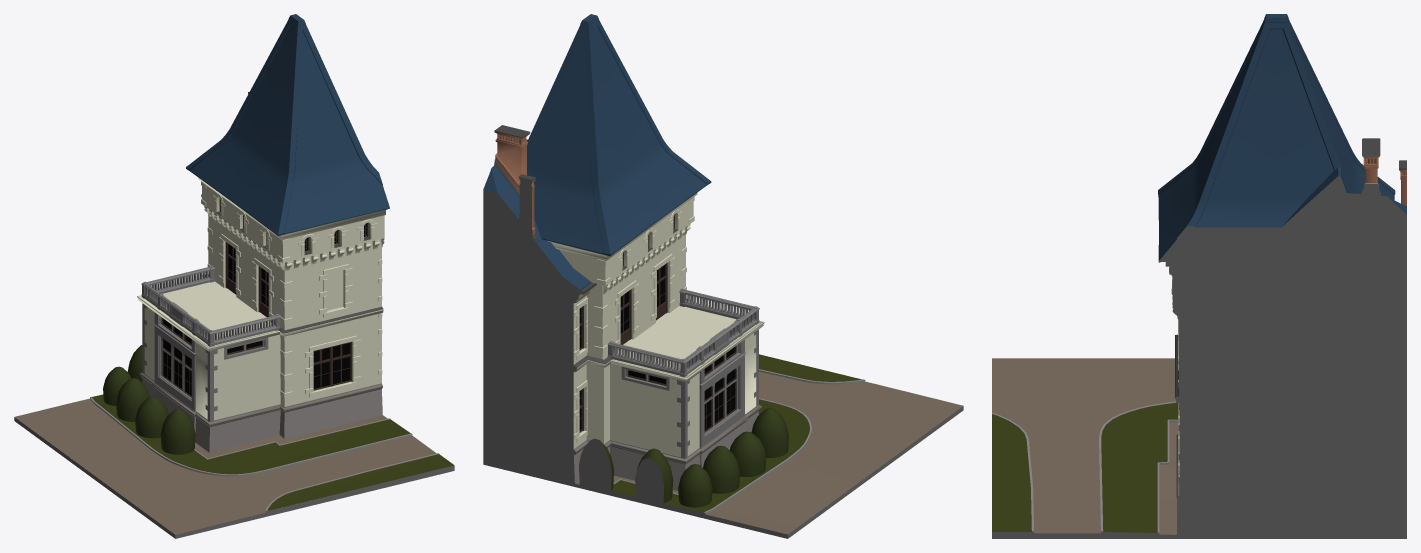
3 views of the same model, side by side, from view 1: azimuth 30°, elevation 25°; view 2: azimuth 150°, elevation 25°; view 3: azimuth 270°, elevation 25° (orthographic). The views are drawn at different scales.
Visible parts, largest first — view 1: Plane.002; view 2: Plane.002; view 3: Plane.002.
Boxes of the visible parts, x1=… form: Plane.002: x1=14, y1=14, x2=454, y2=538; Plane.002: x1=483, y1=14, x2=963, y2=538; Plane.002: x1=992, y1=14, x2=1406, y2=538.
Size of the model in its own units: 4 by 5.25 by 4.
